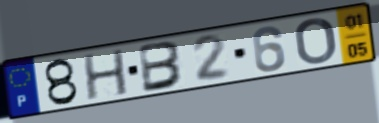2: (190, 33, 233, 84)
6: (250, 24, 287, 74)
8: (43, 57, 80, 107)
B: (138, 40, 187, 95)
H: (81, 47, 131, 102)
O: (293, 16, 339, 66)
